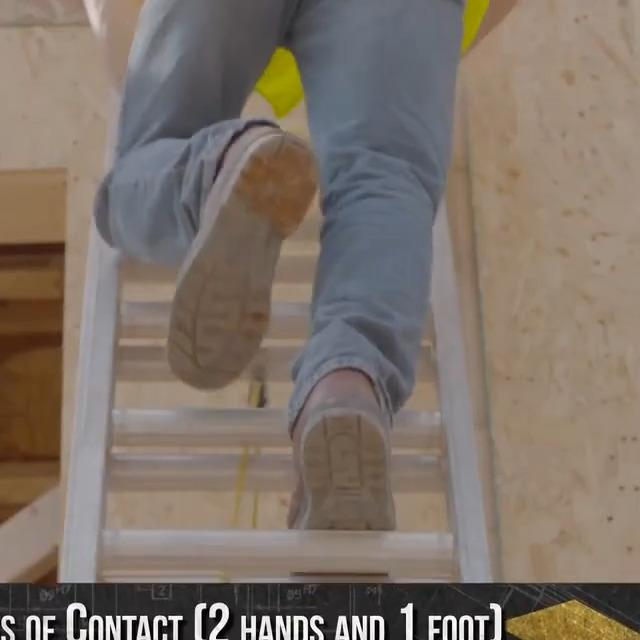Ladder: (59, 80, 493, 584)
Person: (83, 0, 533, 577)
Safety Vest: (257, 0, 498, 111)
